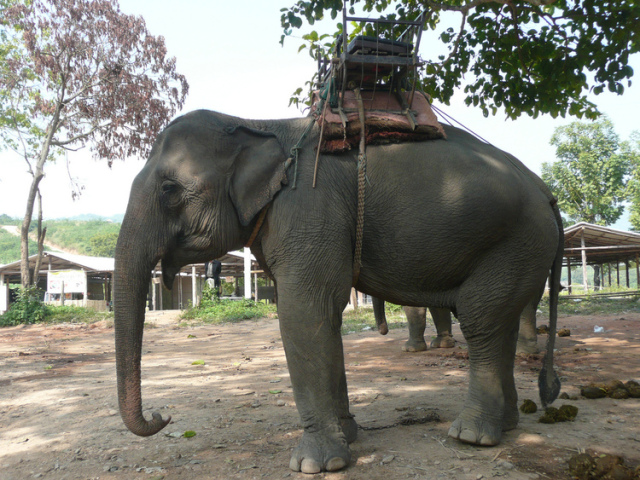elephant: (111, 92, 577, 469)
